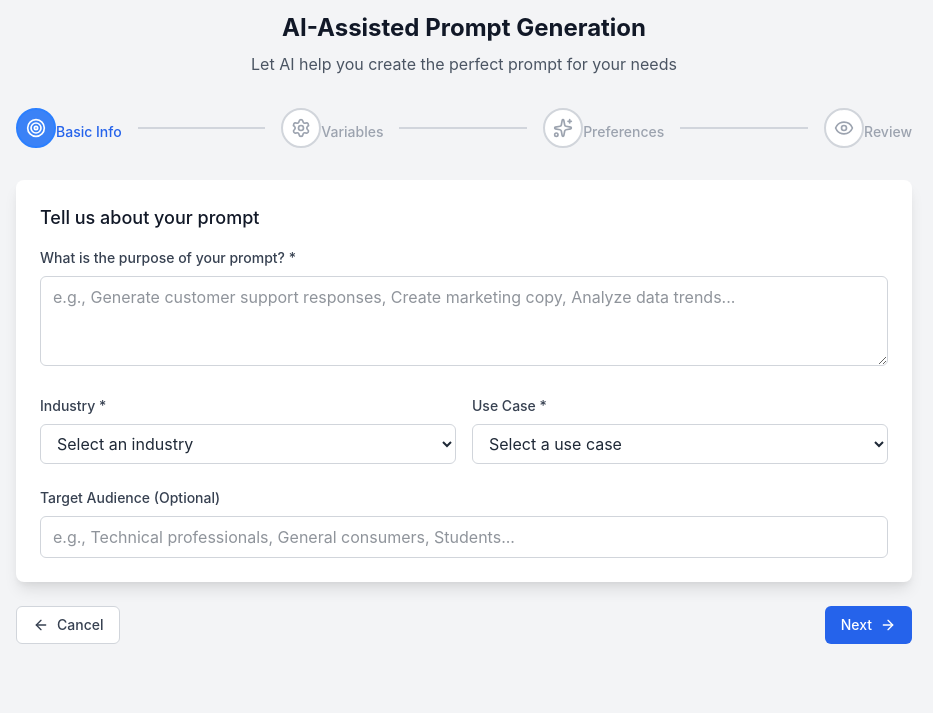
Test: PromptGenerationWizard › Basic Info Step › should show validation errors for required fields
Click the button "Next": (868, 625) [825,606,912,644]
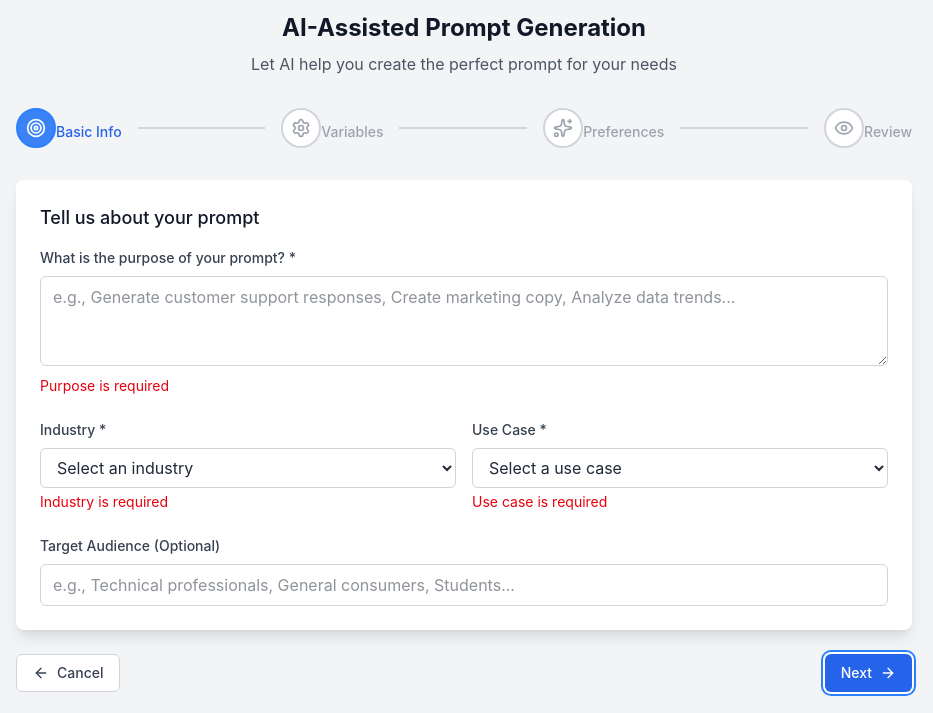
Expected: the text "Purpose is required" is shown, [40,377,169,394]
Expected: the text "Industry is required" is shown, [40,493,168,510]
Expected: the text "Use case is required" is shown, [472,493,607,510]
